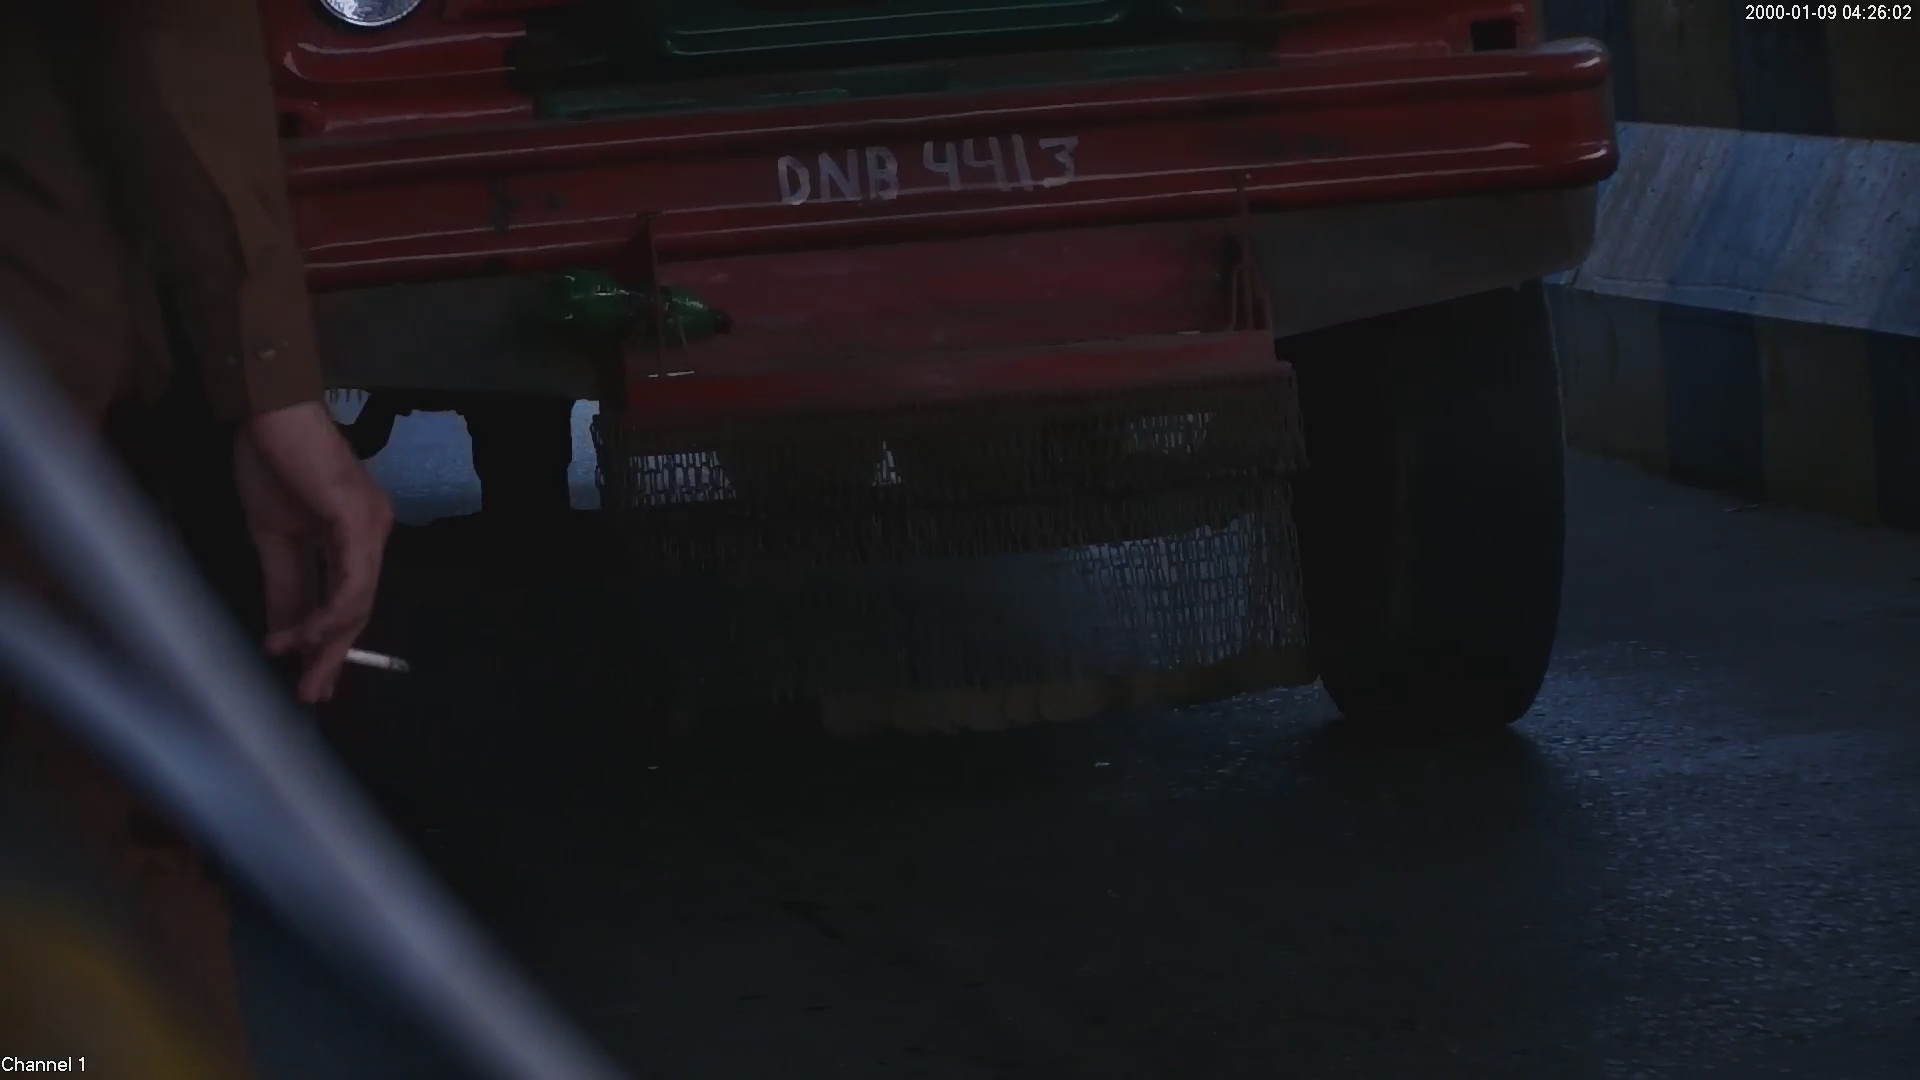Number_Plate: (756, 105, 1106, 233)
Undefined: (615, 431, 1343, 718)
